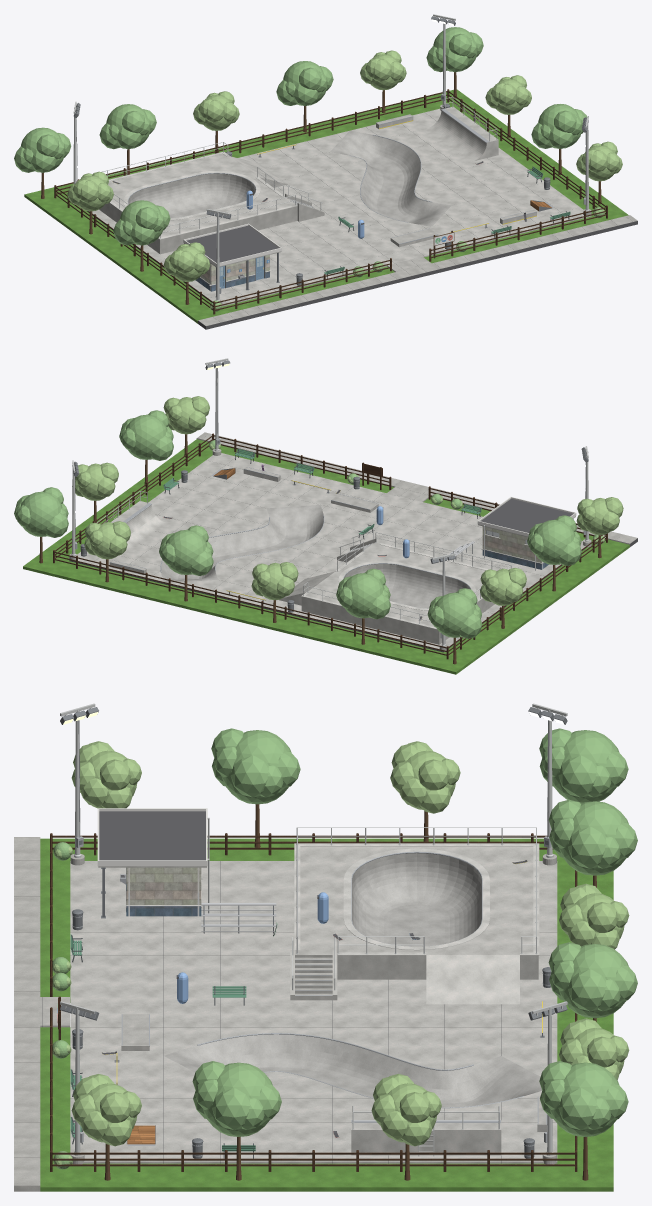
Rendered from building_assembled.glb.
3 views of the same model, one above another, from view 1: azimuth 30°, elevation 25°; view 2: azimuth 150°, elevation 25°; view 3: azimuth 270°, elevation 25° (orthographic). The views are drawn at different scales.
Parts seen in each view (by area): view 1: geometry_113, geometry_116, geometry_117, geometry_126, geometry_119, geometry_115, geometry_121, geometry_118, geometry_128, geometry_246, geometry_226, geometry_242 (+15 smaller); view 2: geometry_113, geometry_116, geometry_117, geometry_126, geometry_119, geometry_118, geometry_115, geometry_121, geometry_230, geometry_246, geometry_234, geometry_238 (+16 smaller); view 3: geometry_113, geometry_116, geometry_119, geometry_126, geometry_115, geometry_121, geometry_117, geometry_118, geometry_81, geometry_230, geometry_238, geometry_234 (+23 smaller).
Part boxes in pixels (box(x1,y1,x2,y2)): geometry_113: box(92, 108, 591, 306); geometry_116: box(24, 89, 628, 323); geometry_117: box(54, 89, 607, 314); geometry_126: box(330, 130, 451, 226); geometry_119: box(108, 154, 297, 237); geometry_115: box(198, 215, 637, 325); geometry_121: box(128, 176, 255, 217); geometry_118: box(99, 173, 324, 254); geometry_128: box(427, 107, 498, 161); geometry_246: box(276, 61, 333, 106); geometry_226: box(14, 127, 71, 172); geometry_242: box(99, 104, 156, 149); geometry_113: box(77, 453, 585, 648); geometry_116: box(23, 439, 629, 674); geometry_117: box(53, 433, 607, 659); geometry_126: box(161, 505, 323, 582); geometry_119: box(279, 542, 484, 626); geometry_118: box(301, 538, 494, 644); geometry_115: box(196, 432, 637, 544); geometry_121: box(345, 566, 468, 608); geometry_230: box(527, 515, 581, 565); geometry_246: box(159, 525, 213, 575); geometry_234: box(14, 487, 68, 537); geometry_238: box(119, 410, 173, 460); geometry_113: box(70, 861, 557, 1163); geometry_116: box(40, 838, 613, 1191); geometry_119: box(295, 846, 533, 1004); geometry_126: box(164, 1034, 541, 1107); geometry_115: box(14, 837, 69, 1191); geometry_121: box(352, 857, 481, 946); geometry_117: box(50, 833, 577, 1171); geometry_118: box(290, 853, 538, 1000); geometry_81: box(99, 811, 205, 860); geometry_230: box(211, 728, 300, 804); geometry_238: box(192, 1061, 281, 1136); geometry_234: box(539, 1061, 628, 1136).
Size of the model in its own units: 47.26 by 10.35 by 33.3.
43 materials, 12 textured.
